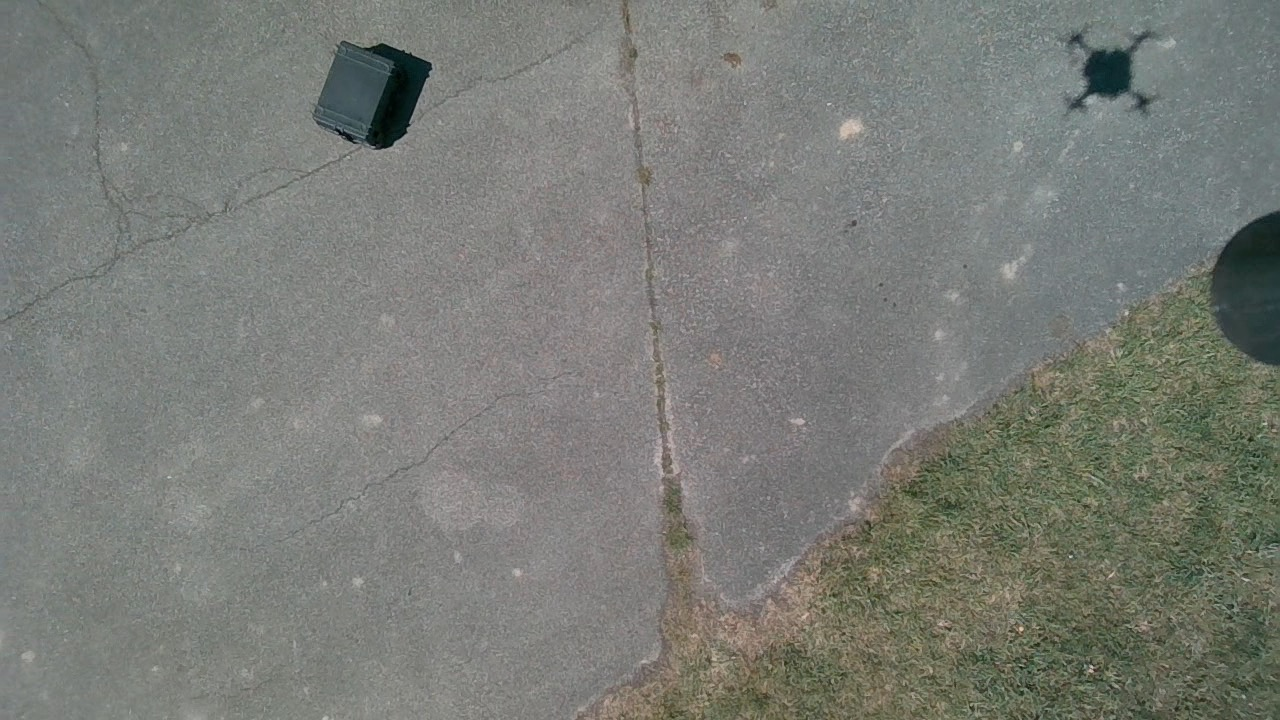rako: (313, 41, 399, 145)
